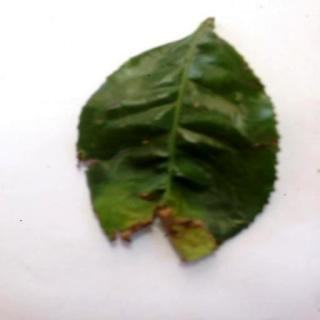Algal Leaf: (80, 17, 281, 268)
